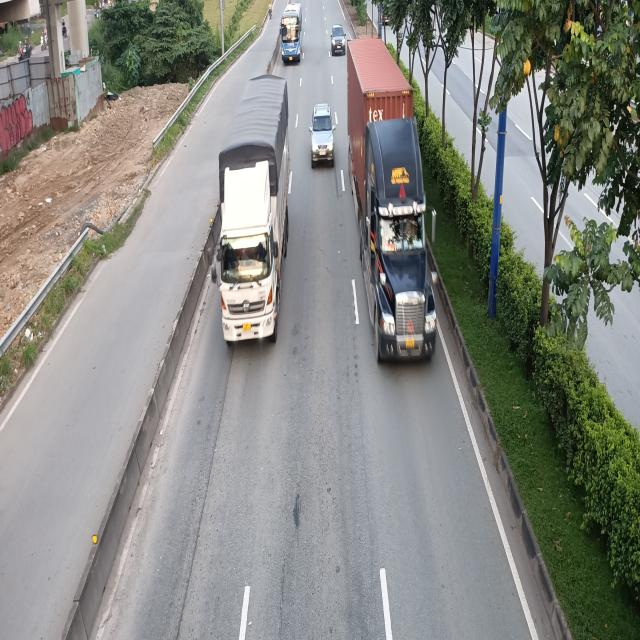car: (310, 102, 337, 167), (330, 24, 346, 56)
coach: (278, 3, 303, 65)
container: (347, 37, 433, 364)
truck: (212, 72, 294, 344)
